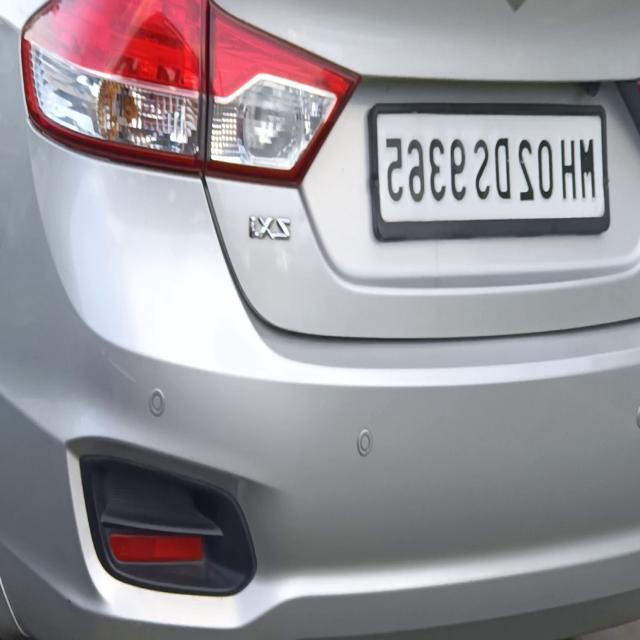license_plate: (364, 90, 614, 254)
